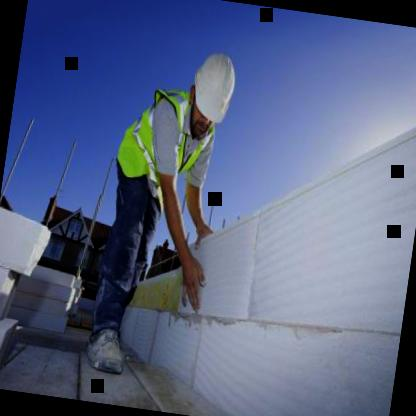helmet: (173, 37, 244, 157)
